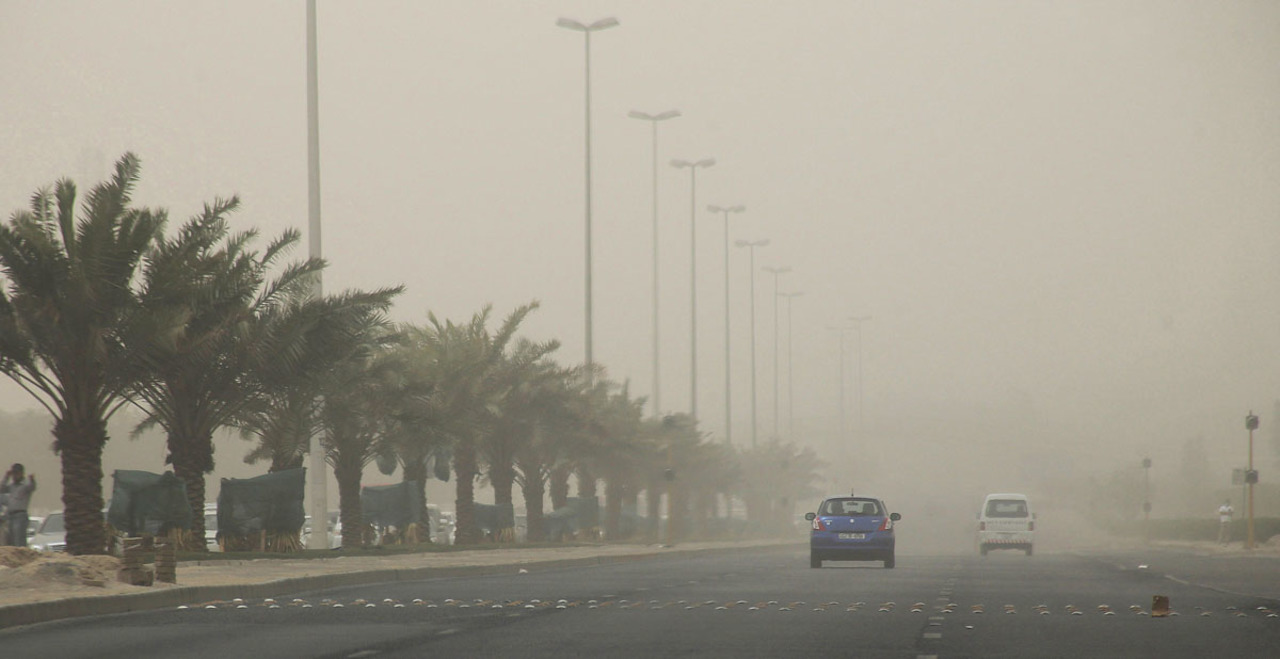car: (807, 493, 897, 567), (975, 492, 1039, 557), (25, 506, 72, 552)
person: (0, 462, 36, 543)
